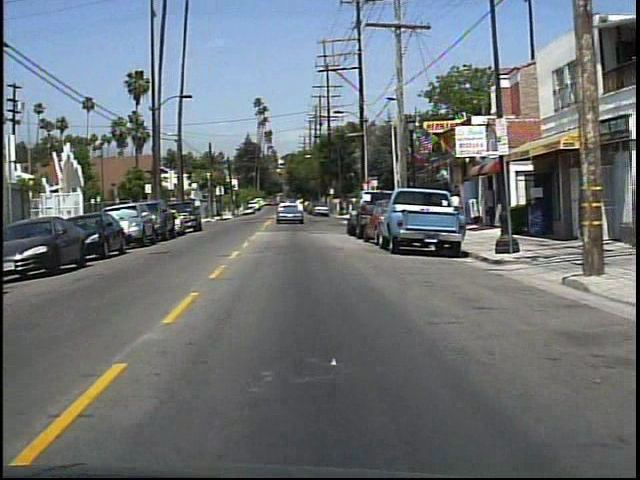person: (447, 188, 467, 232)
